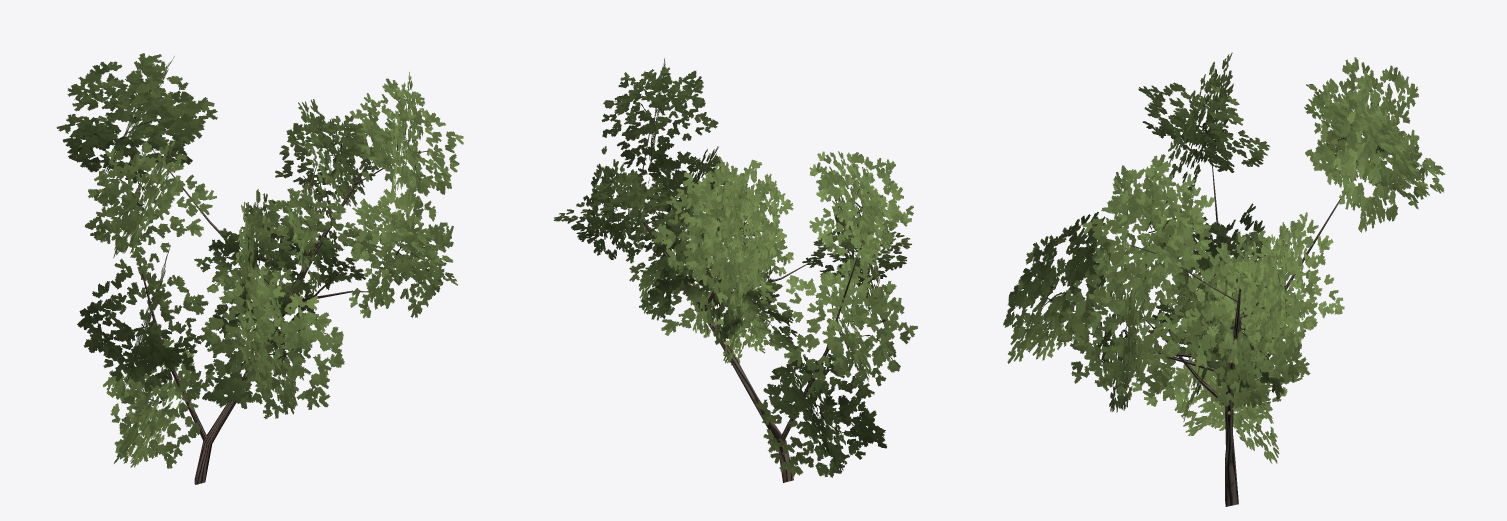
File: sapling-c.lod1.glb
3 views of the same model, side by side, from view 1: azimuth 30°, elevation 25°; view 2: azimuth 150°, elevation 25°; view 3: azimuth 270°, elevation 25° (orthographic). The views are drawn at different scales.
Parts seen in each view (by area): view 1: foliage, bark; view 2: foliage, bark; view 3: foliage, bark.
Part boxes in pixels (bbox=[...]): foliage: bbox=[56, 53, 463, 468]; bark: bbox=[135, 149, 428, 484]; foliage: bbox=[553, 58, 917, 477]; bark: bbox=[621, 109, 862, 482]; foliage: bbox=[1003, 52, 1445, 463]; bark: bbox=[1089, 158, 1351, 506].
Size of the model in its own units: 1.27 by 1.3 by 1.26.
Materials: 2 (2 with a texture image).
